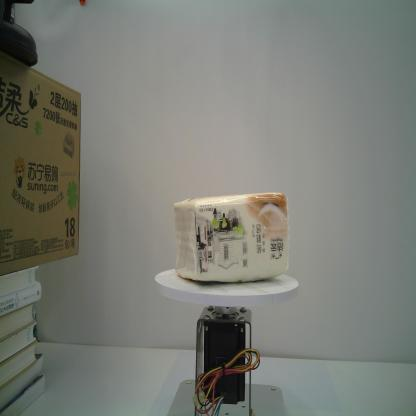Tissue: (172, 191, 290, 284)
